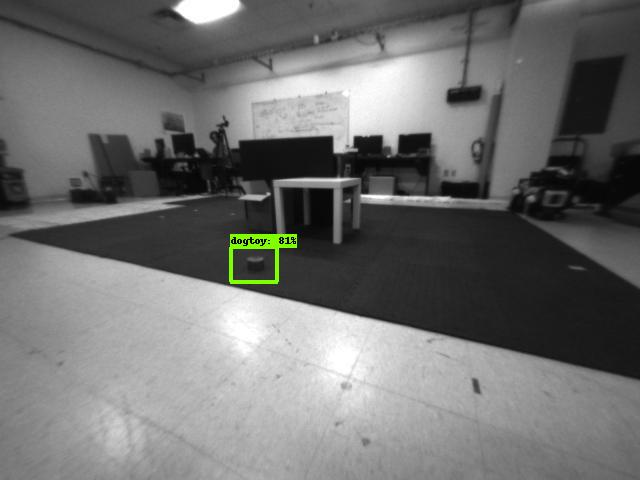dogtoy: (231, 249, 272, 276)
